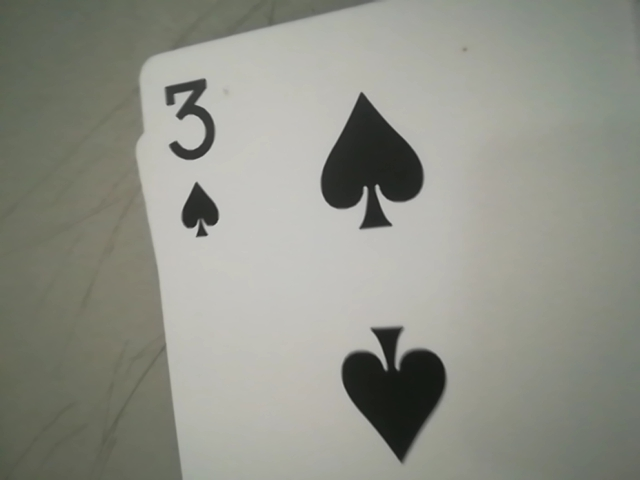ht 3: (146, 72, 247, 242)
